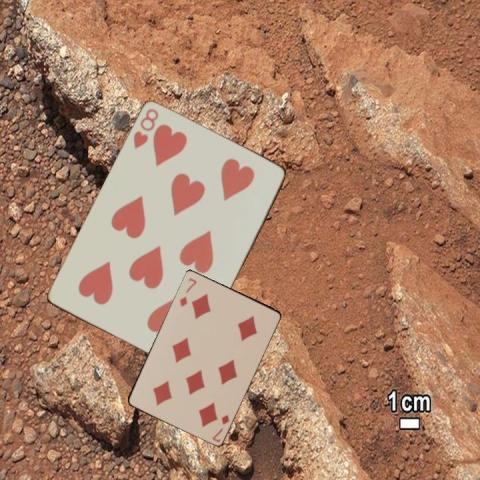7d: (209, 412, 231, 444), (177, 275, 198, 308)
8h: (130, 106, 160, 151)
